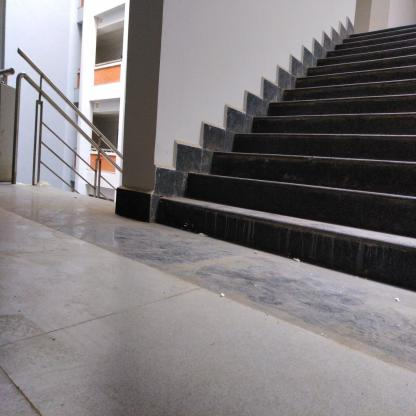stairs: (358, 29, 416, 301)
